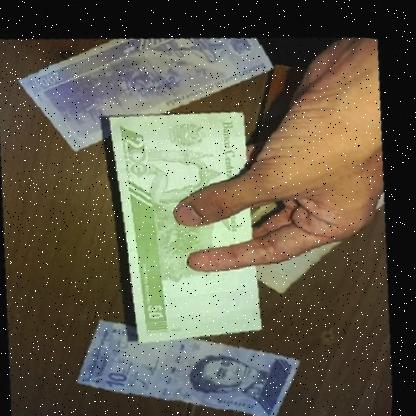fifty-back-vef: (96, 92, 279, 350)
